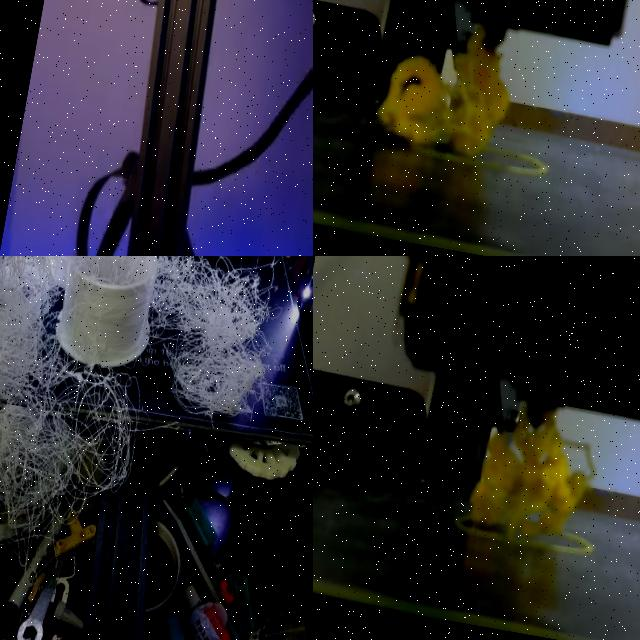spaghetti: (453, 402, 594, 555), (376, 26, 508, 155)
